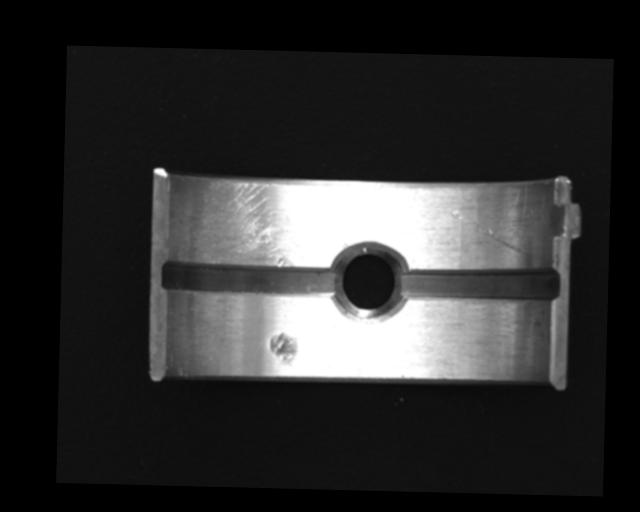bruise: (268, 331, 297, 368)
gap: (161, 259, 342, 298), (401, 266, 559, 303)
hole: (332, 239, 406, 322)
nick: (448, 208, 527, 256)
scratch: (177, 173, 335, 268)
